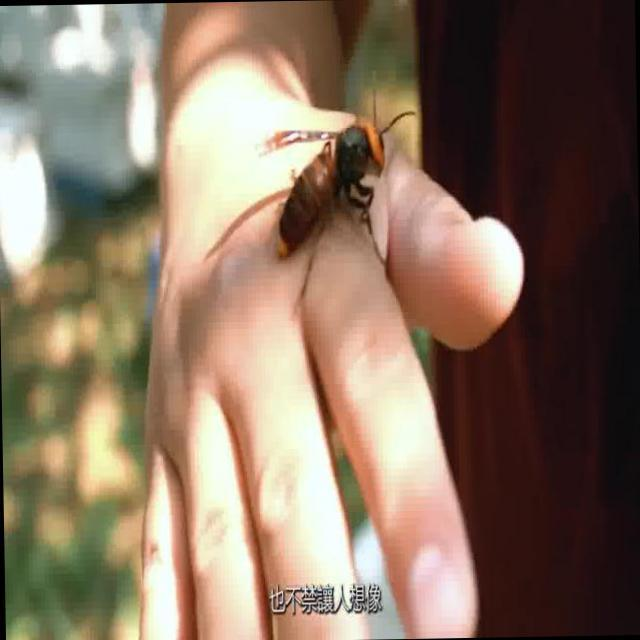Wasp: (237, 86, 409, 259)
